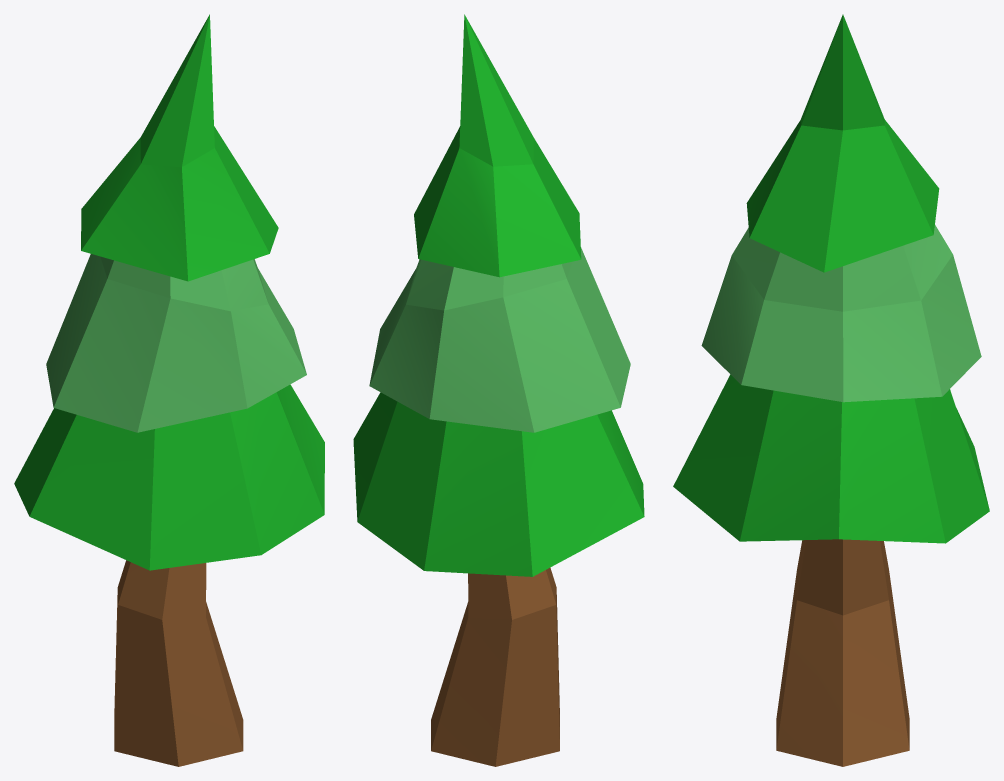
Rendered from tree2.fbx.
3 views of the same model, side by side, from view 1: azimuth 30°, elevation 25°; view 2: azimuth 150°, elevation 25°; view 3: azimuth 270°, elevation 25° (orthographic). The views are drawn at different scales.
Parts seen in each view (by area): view 1: tree2; view 2: tree2; view 3: tree2.
Boxes of the visible parts, bbox=[...] form: tree2: bbox=[14, 14, 324, 766]; tree2: bbox=[353, 14, 644, 766]; tree2: bbox=[673, 14, 989, 766].
Bounding box in the file's own units: 24.41 × 56.79 × 22.15.
1 material, 1 textured.
